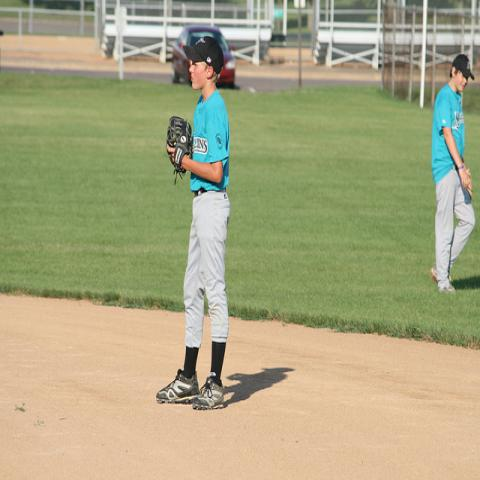car: (170, 27, 238, 86)
